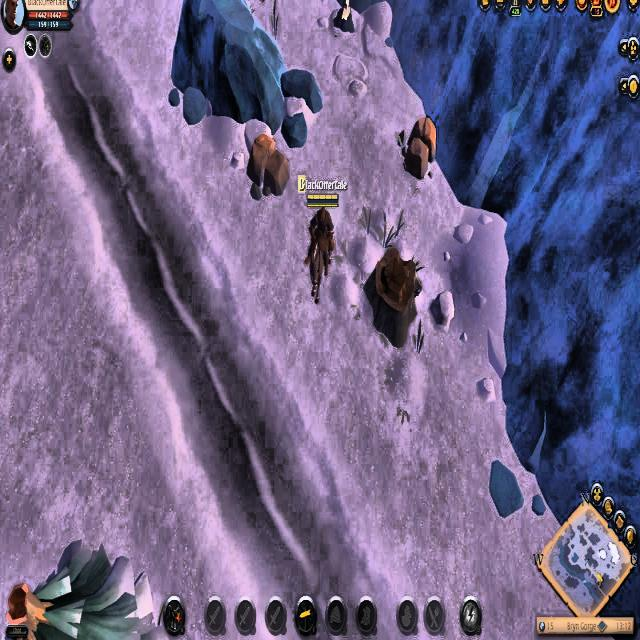copperore: (329, 0, 357, 34)
limestone: (245, 128, 292, 198), (402, 115, 439, 180)
